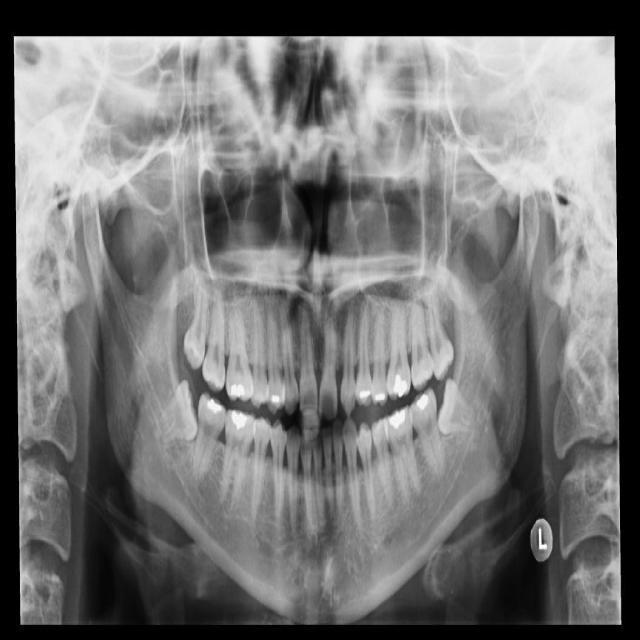Filling: (390, 375, 408, 397), (389, 408, 406, 427), (227, 411, 247, 426), (271, 394, 284, 410), (205, 399, 221, 412), (415, 393, 427, 409), (229, 385, 243, 398), (373, 390, 385, 404), (359, 388, 371, 401)
impacted tooth: (438, 378, 487, 430), (155, 381, 195, 439)
